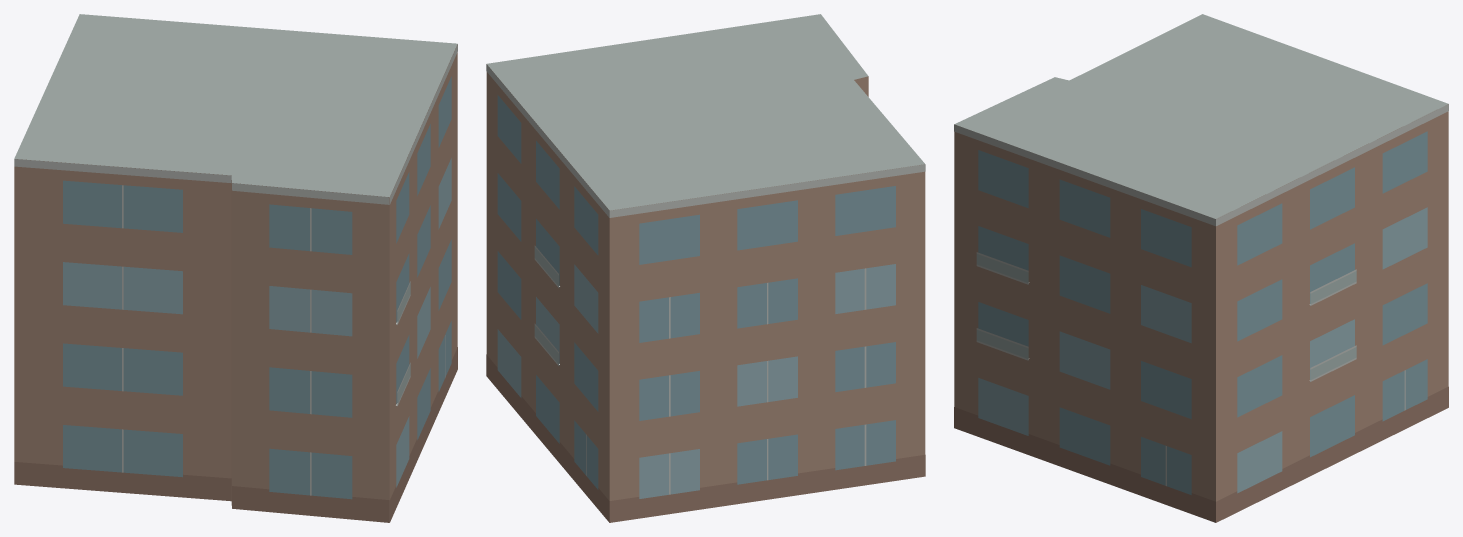
File: survey-upis-32947251.glb
The picture shows the model from 3 angles, left to right: view 1: azimuth 30°, elevation 25°; view 2: azimuth 150°, elevation 25°; view 3: azimuth 270°, elevation 25°; orthographic projection. The views are drawn at different scales.
Visible parts, largest first — view 1: survey-upis-32947251.tmp; view 2: survey-upis-32947251.tmp; view 3: survey-upis-32947251.tmp.
Boxes of the visible parts, bbox=[...] form: survey-upis-32947251.tmp: bbox=[14, 14, 457, 522]; survey-upis-32947251.tmp: bbox=[486, 14, 925, 522]; survey-upis-32947251.tmp: bbox=[954, 14, 1448, 522].
Size of the model in its own units: 14.85 by 10.25 by 15.13.
